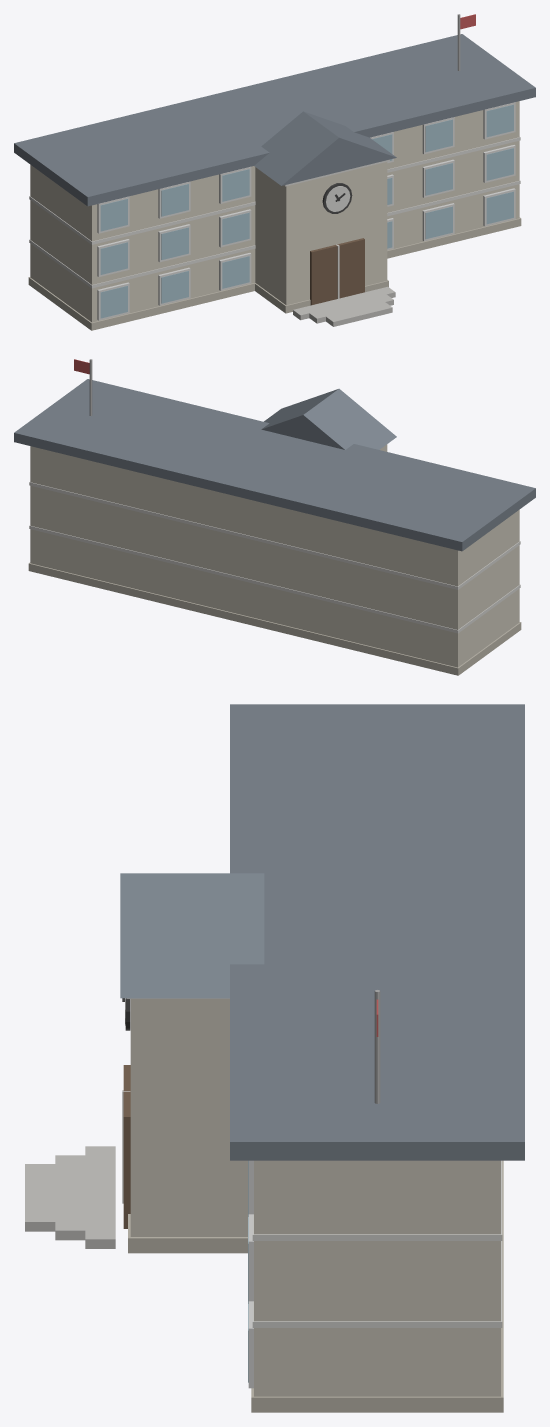
File: lowpoly_school.glb
3 views of the same model, one above another, from view 1: azimuth 30°, elevation 25°; view 2: azimuth 150°, elevation 25°; view 3: azimuth 270°, elevation 25° (orthographic). The views are drawn at different scales.
Visible parts, largest first — view 1: geometry_0; view 2: geometry_0; view 3: geometry_0.
Boxes of the visible parts, x1=… form: geometry_0: x1=14, y1=14, x2=535, y2=330; geometry_0: x1=14, y1=359, x2=535, y2=675; geometry_0: x1=25, y1=704, x2=524, y2=1412.
Bounding box in the file's own units: 7.55 × 3.15 × 3.64.
